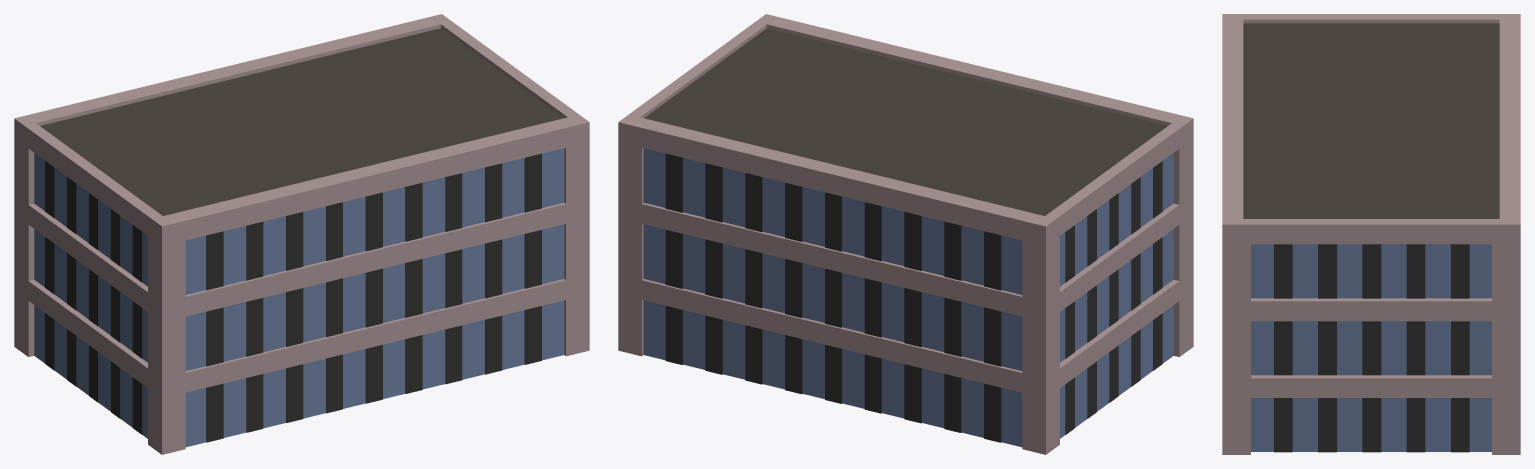
Rendered from Building_Misc_04.fbx.
The picture shows the model from 3 angles, left to right: view 1: azimuth 30°, elevation 25°; view 2: azimuth 150°, elevation 25°; view 3: azimuth 270°, elevation 25°; orthographic projection.
Visible parts, largest first — view 1: Building_Misc_04; view 2: Building_Misc_04; view 3: Building_Misc_04.
Part boxes in pixels (left/top/right/bottom): Building_Misc_04: left=14, top=14, right=589, bottom=454; Building_Misc_04: left=618, top=14, right=1193, bottom=454; Building_Misc_04: left=1222, top=14, right=1520, bottom=454.
Size of the model in its own units: 27.62 by 14.1 by 16.53.
